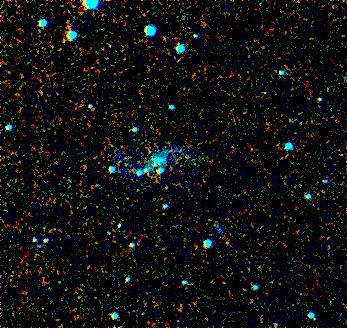star: (303, 303, 333, 328)
